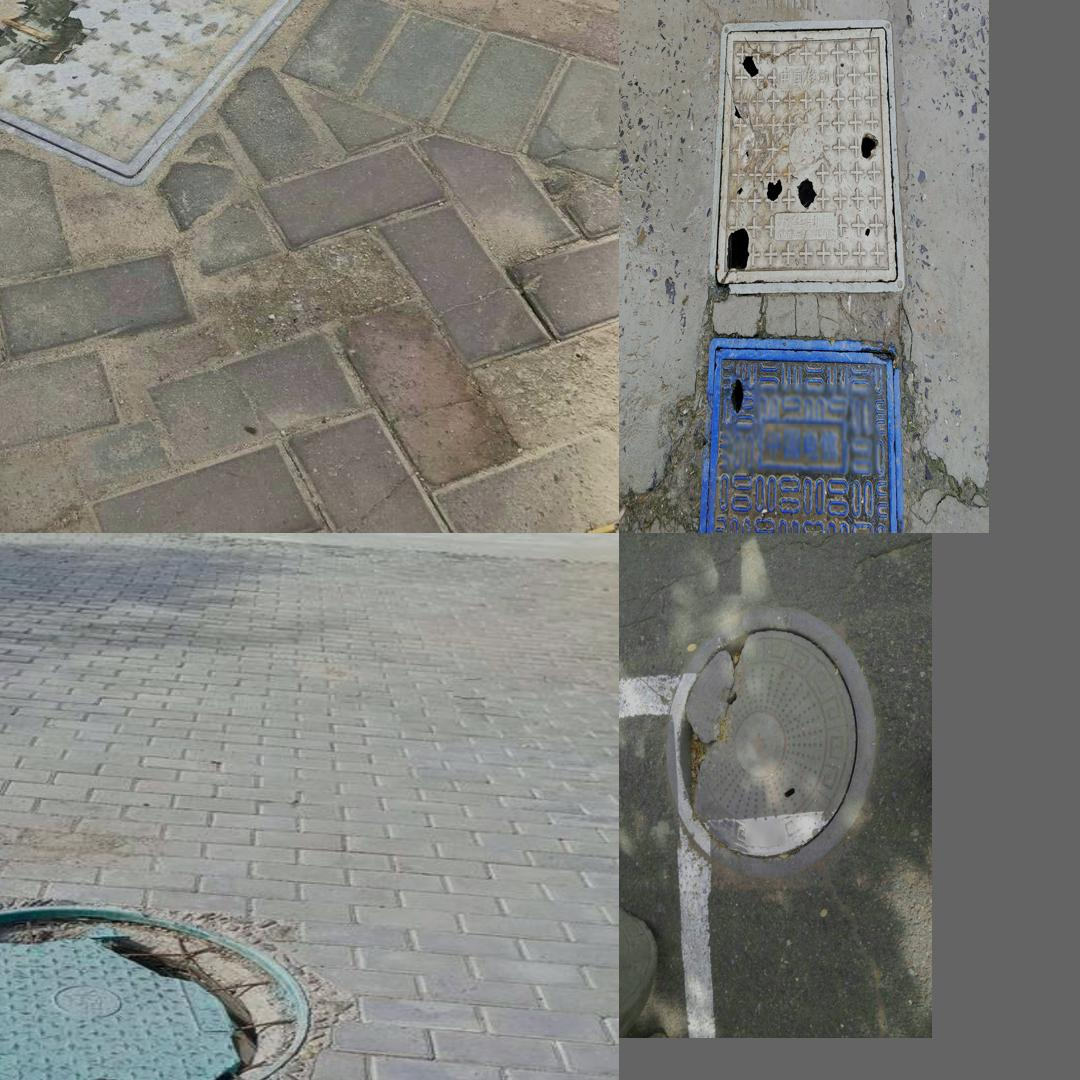broke: (0, 0, 391, 188), (0, 900, 356, 1080), (666, 607, 875, 879), (713, 17, 905, 297)
